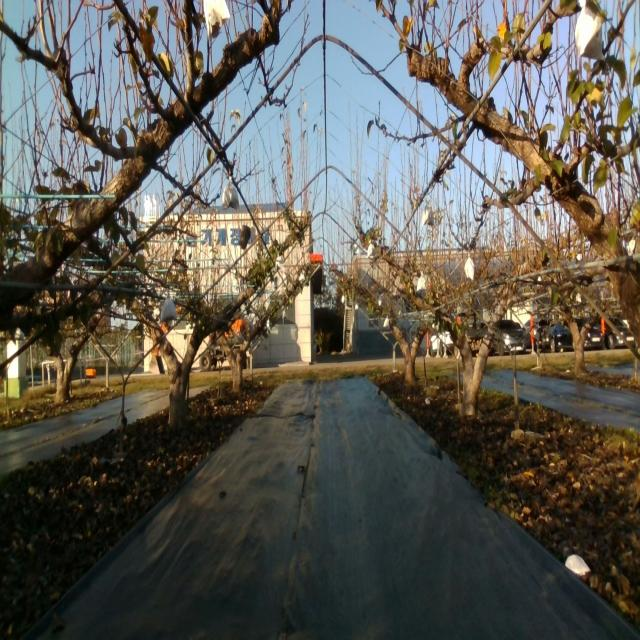pearbags: (571, 0, 605, 61), (202, 0, 229, 41), (222, 174, 240, 210), (159, 297, 179, 327), (422, 202, 434, 226), (464, 254, 474, 282)
